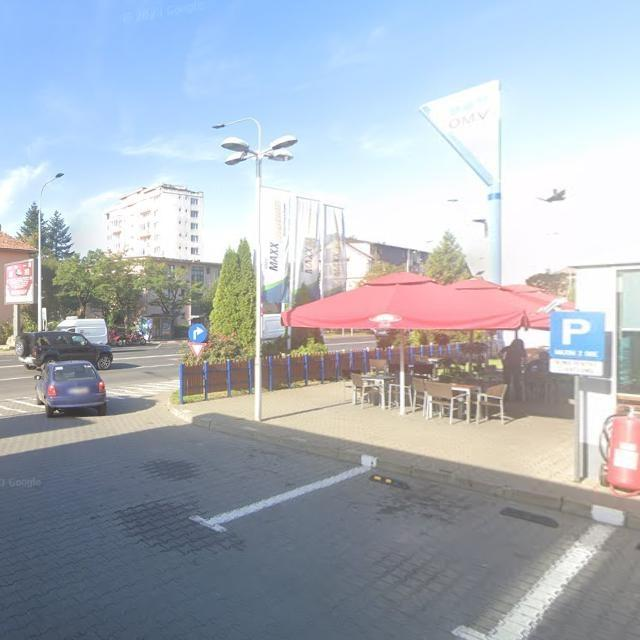prio_give_way: (189, 342, 206, 358)
